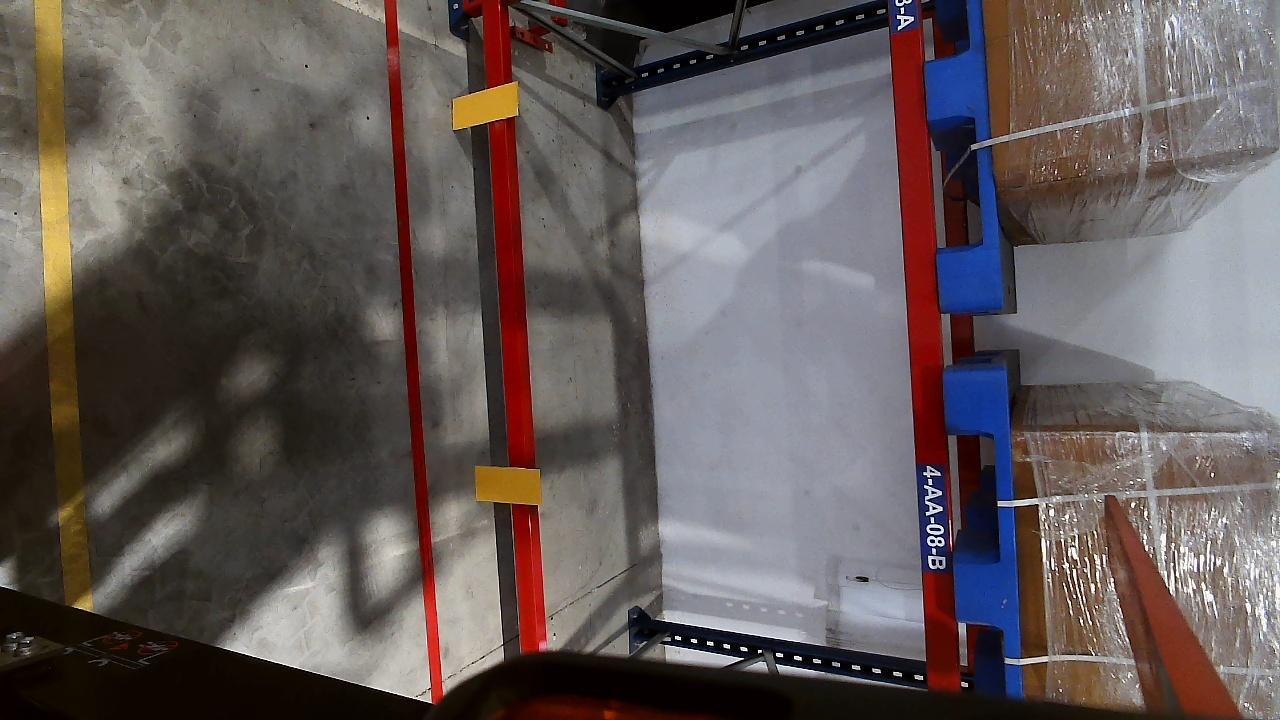h_rack: (889, 0, 955, 687), (484, 4, 553, 650)
orange_strip: (451, 82, 520, 128), (473, 466, 540, 505)
red_line: (378, 0, 443, 687)
small_pallet: (916, 0, 1007, 305), (944, 389, 1026, 690)
yellow_line: (34, 0, 94, 610)
